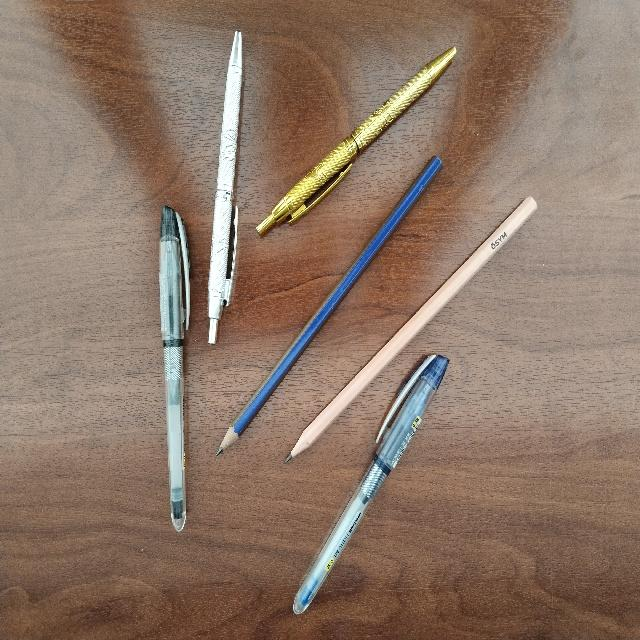pen: (293, 355, 447, 613), (159, 206, 189, 530)
pencil: (216, 157, 441, 454), (286, 197, 536, 460)
signature pen: (256, 47, 455, 235), (208, 31, 241, 343)
